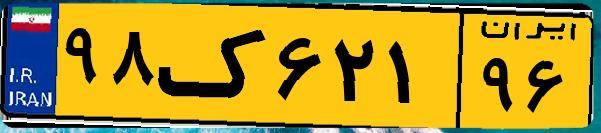1: (385, 28, 445, 110)
2: (330, 28, 385, 110)
6: (270, 28, 330, 110), (525, 38, 570, 115)
8: (110, 28, 158, 98)
9: (57, 26, 110, 100), (475, 38, 525, 113)
ک: (158, 12, 270, 120)
